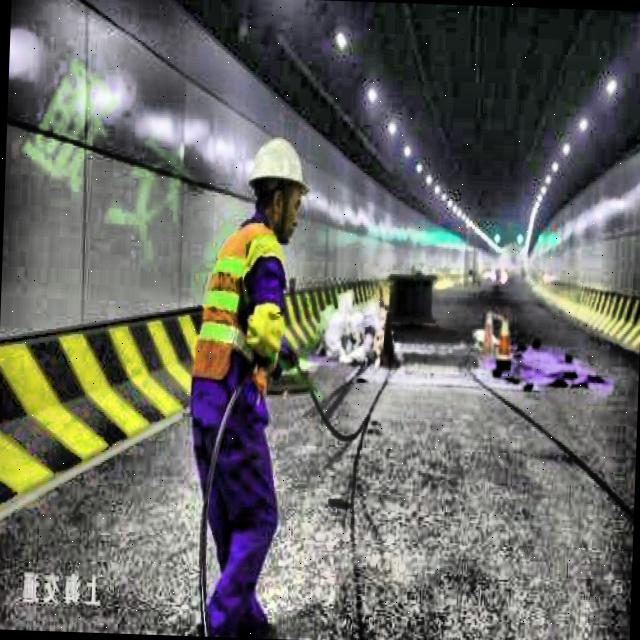helmet: (242, 128, 314, 248)
